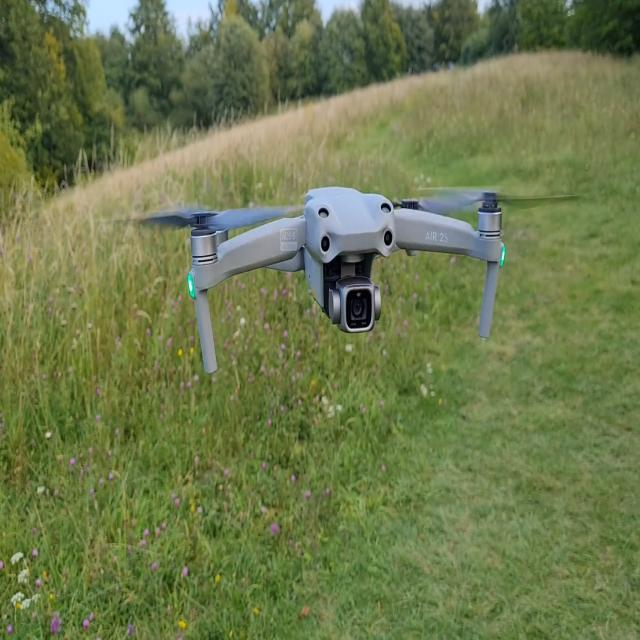drone: (102, 183, 580, 374)
